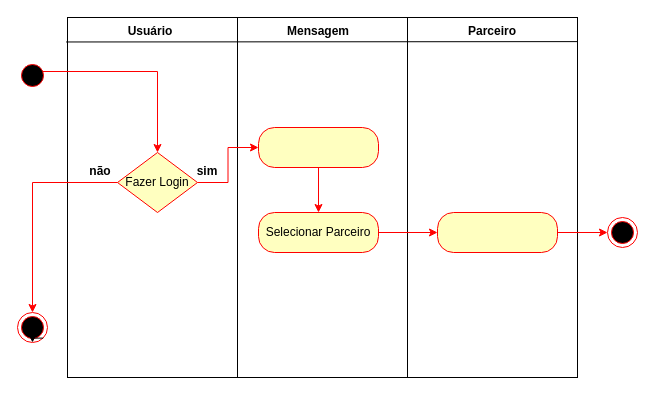
Image size: 655x395. Some labels were removed from this diagram. The shapes that lost their labels are listed below. From the top down, each one's centre as x and y in pixels, then its label:
At point (318, 147): "Acessar Módulo Mensagem".
At point (497, 232): "Trocar Mensagens".
